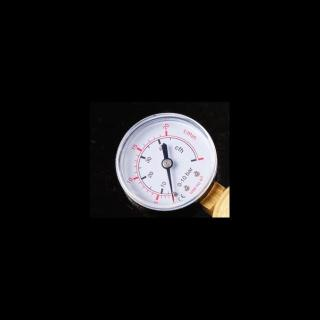gauge: (113, 112, 227, 216), (189, 152, 205, 166), (168, 187, 180, 205), (162, 158, 172, 168), (170, 197, 176, 203)
